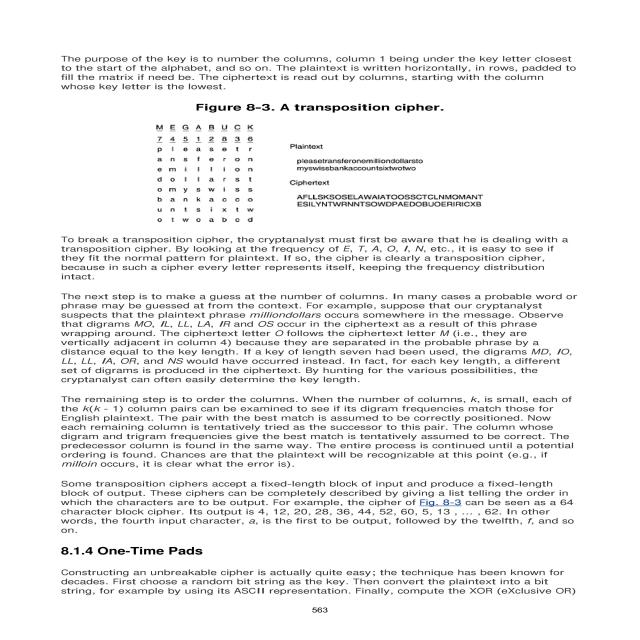diagram: (107, 95, 559, 235)
